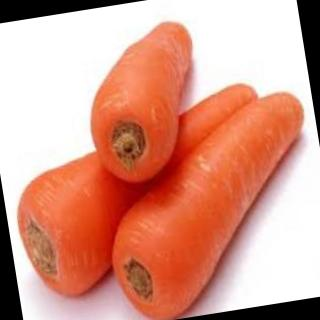Wortel: (90, 88, 320, 320), (76, 18, 213, 187)
